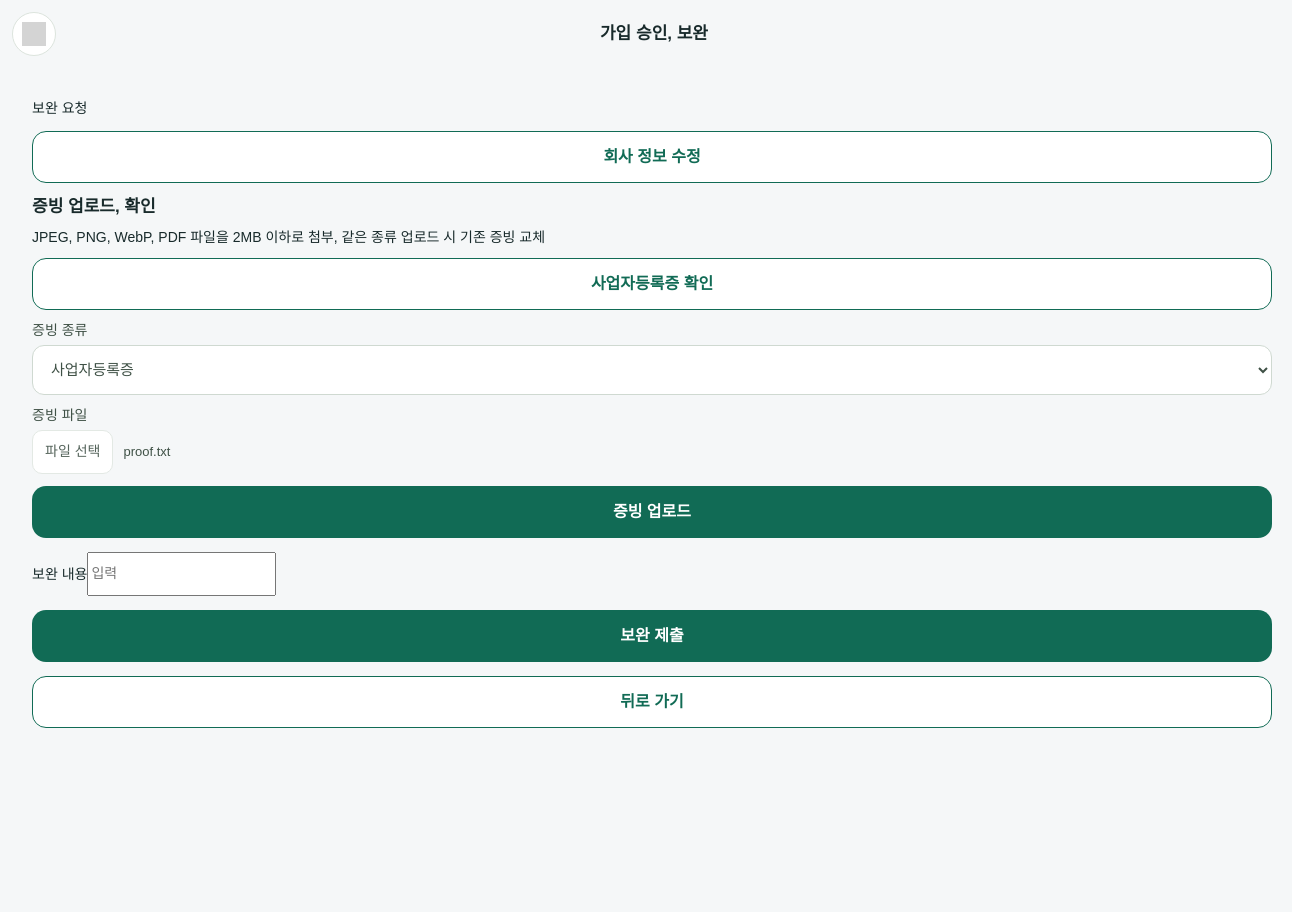
Test: 9 증빙 확인은 인증된 파일 요청, 허용되지 않은 파일 업로드 차단
Earlier steps of the test are not shown.
Click the button "증빙 업로드": [652, 512] box [32, 486, 1272, 538]
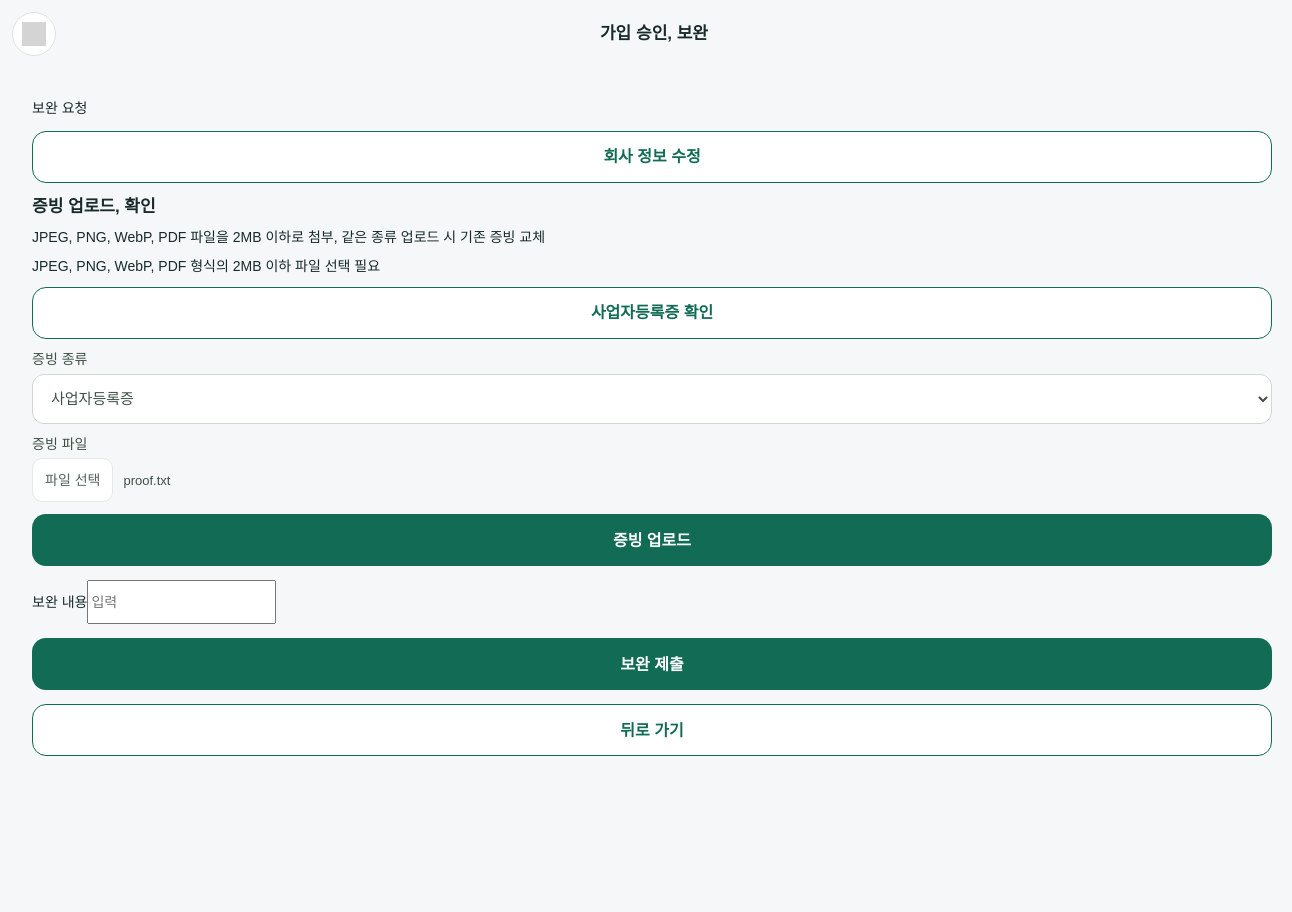
Check: the text "JPEG, PNG, WebP, PDF 형식의 2MB 이하 파일 선택 필요" is shown, box [32, 258, 380, 274]
